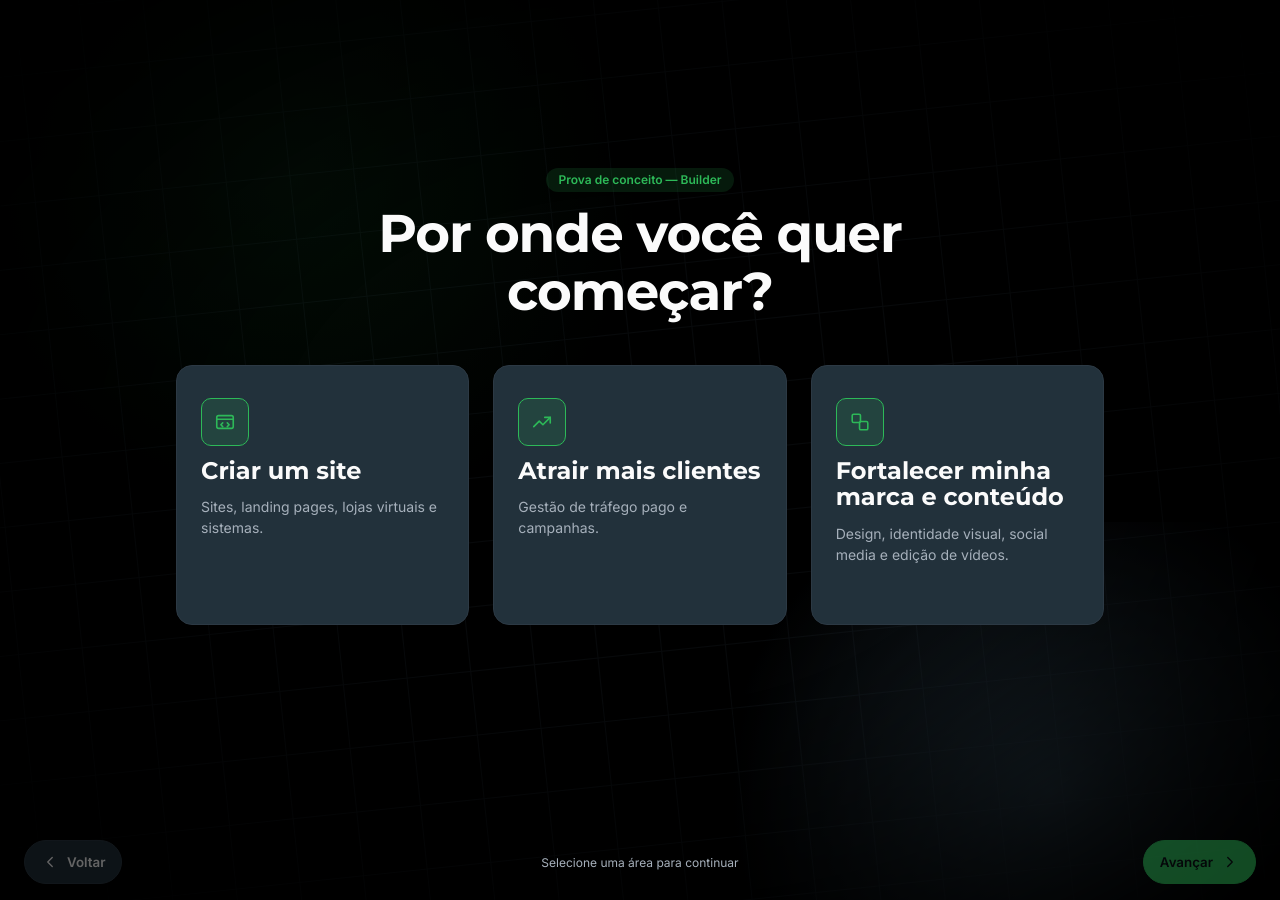
BuilderExperiencePoc (Prova de Conceito — Builder) › trocar de serviço na Cena 1 mostra a pergunta correspondente ao NOVO serviço na Cena 2
Click the button "Atrair mais clientes Gestão de tráfego pago e campanhas." at (542, 421), box [493, 364, 787, 624]
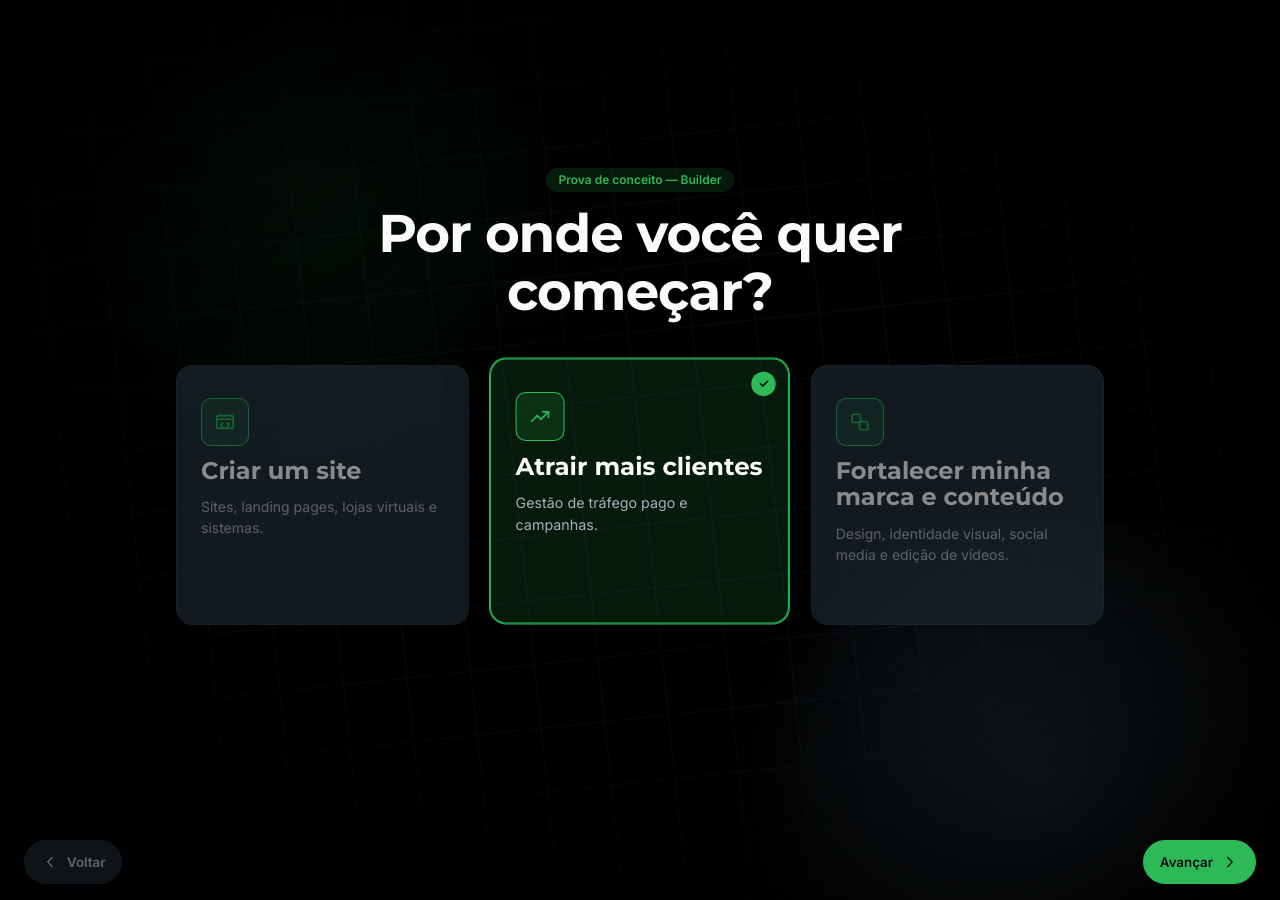
Click the button with aria-label "Avançar para a próxima cena" at (1199, 862), box [1143, 840, 1256, 884]
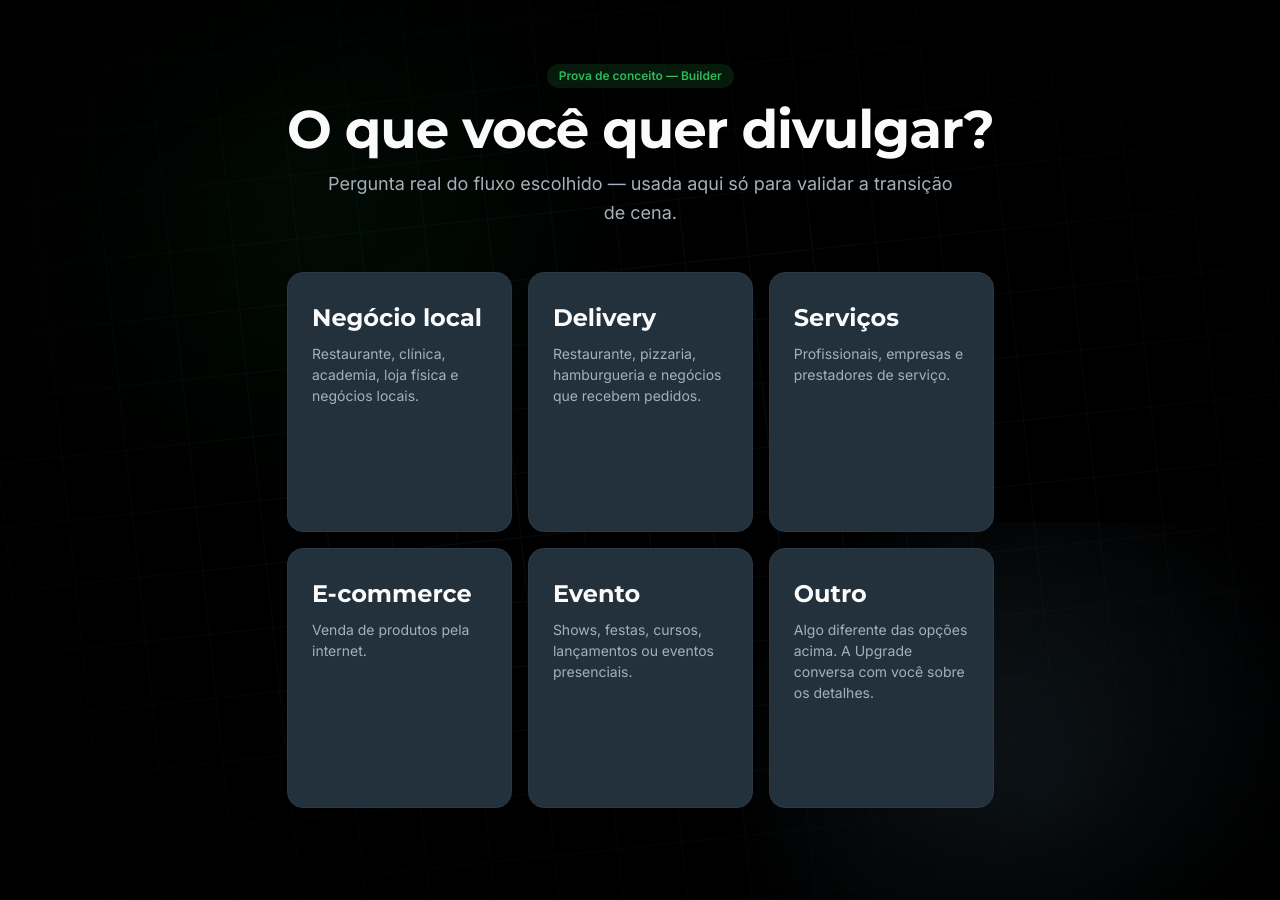
Check: the heading "O que você quer divulgar?" is shown, box [287, 100, 993, 158]
